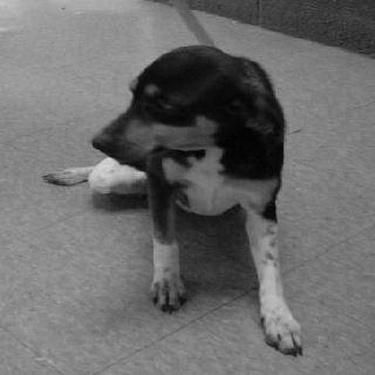dog: (28, 27, 309, 362)
